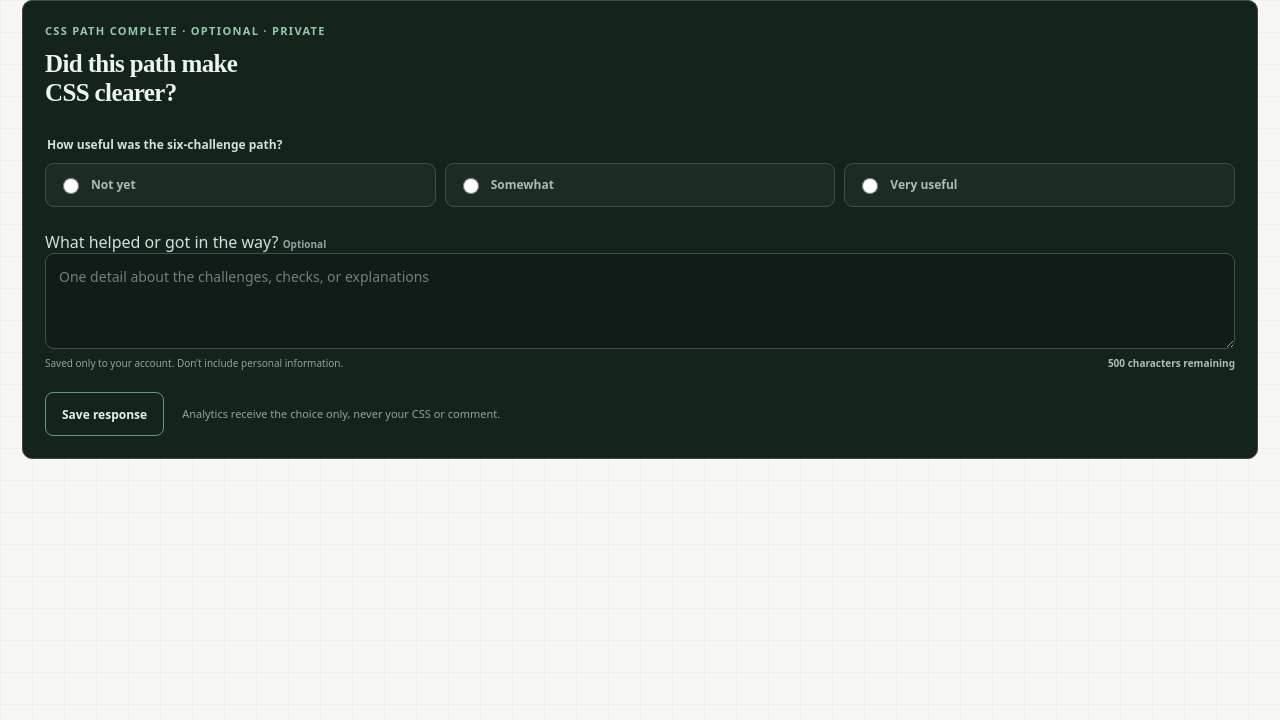
CssPathFeedback › keeps newer feedback edits intact when an older save finishes
Click the radio button labelled "Somewhat". click: (471, 186)
box: [463,178,479,194]
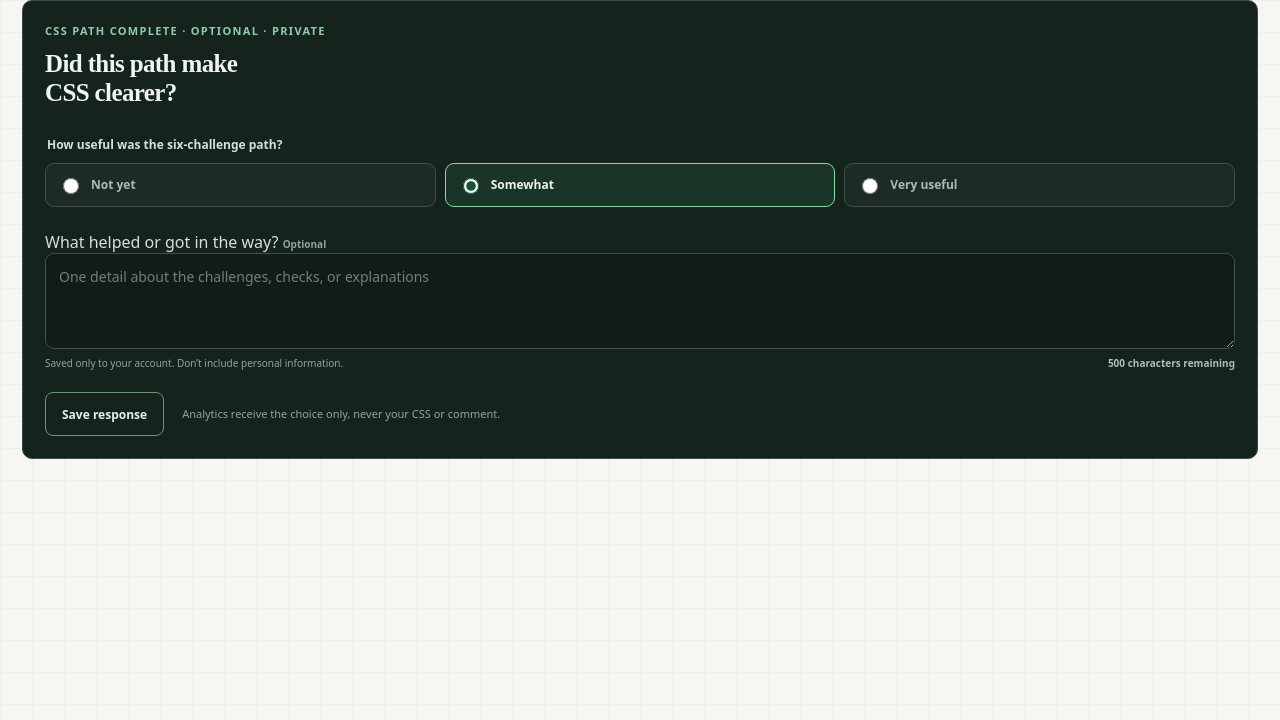
Type "The selector checks helped." into the text box. click: (640, 300)
box: [45,252,1235,348]
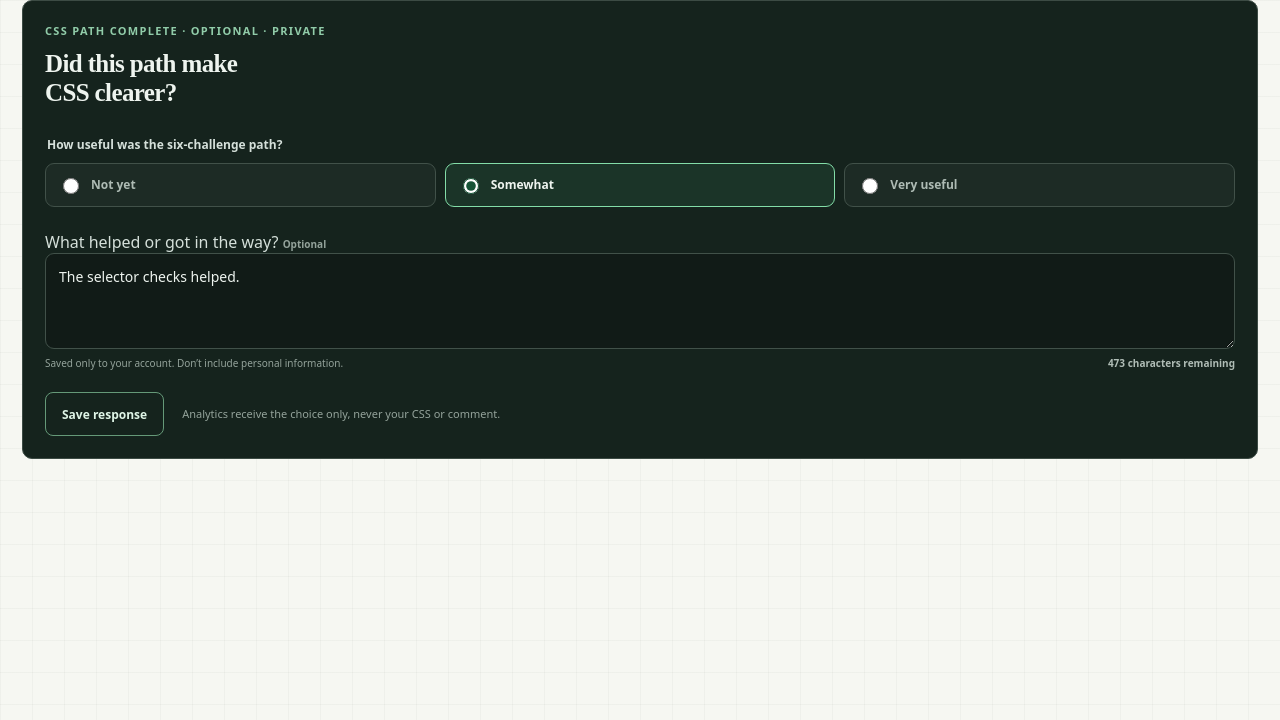
Click the button "Save response". click: (105, 414)
box: [45,392,164,436]
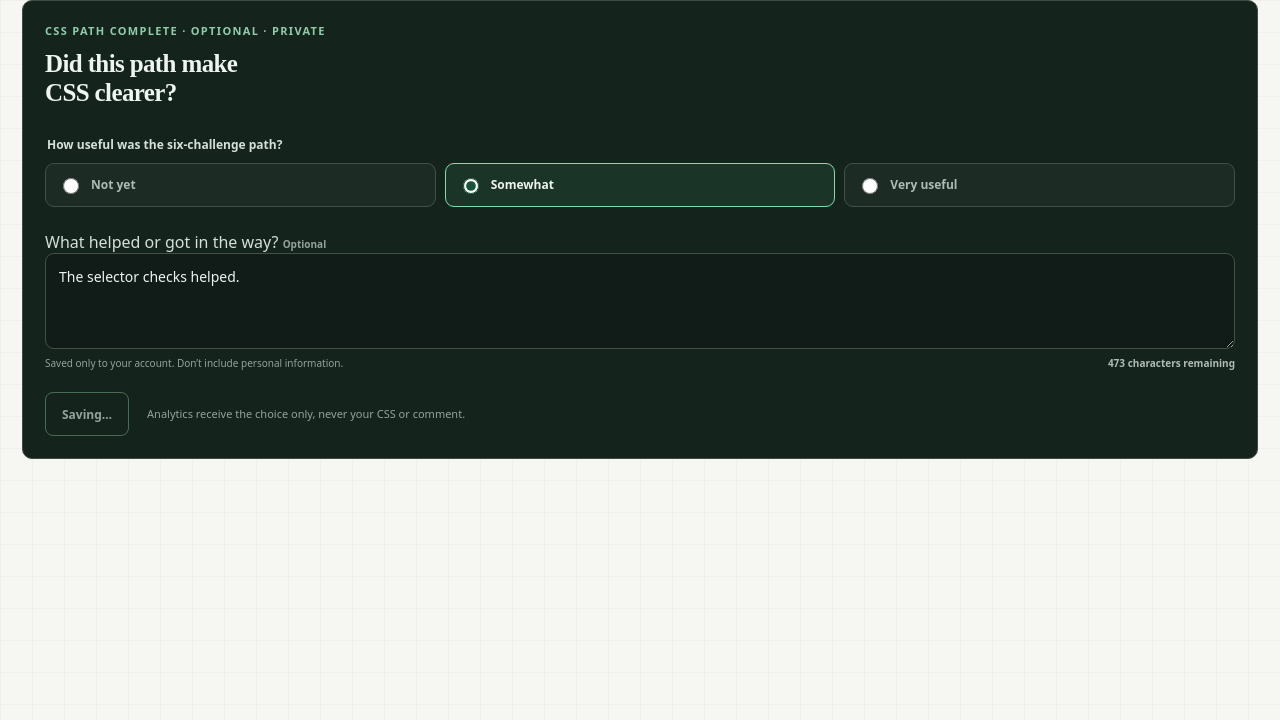
Click the radio button labelled "Very useful". click: (870, 186)
box: [862,178,878,194]
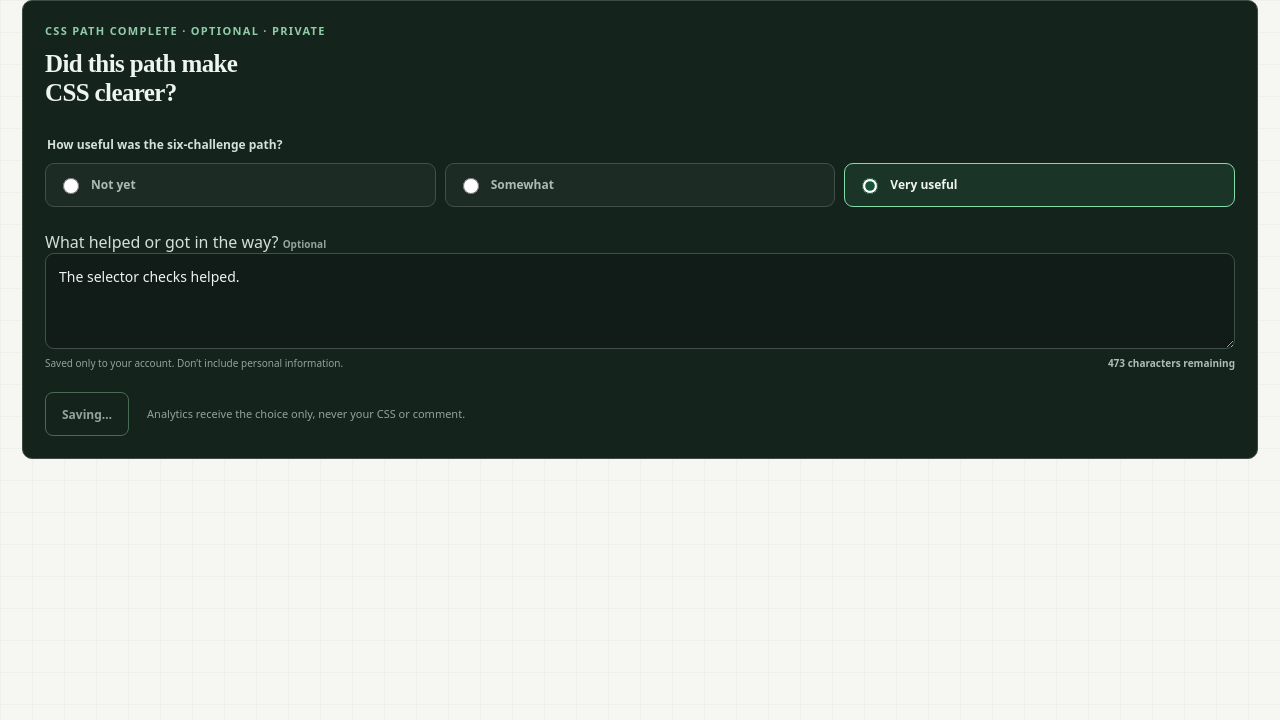
Replace the text in the text box with "The recovery prompts helped even more.". click: (640, 300)
box: [45,252,1235,348]
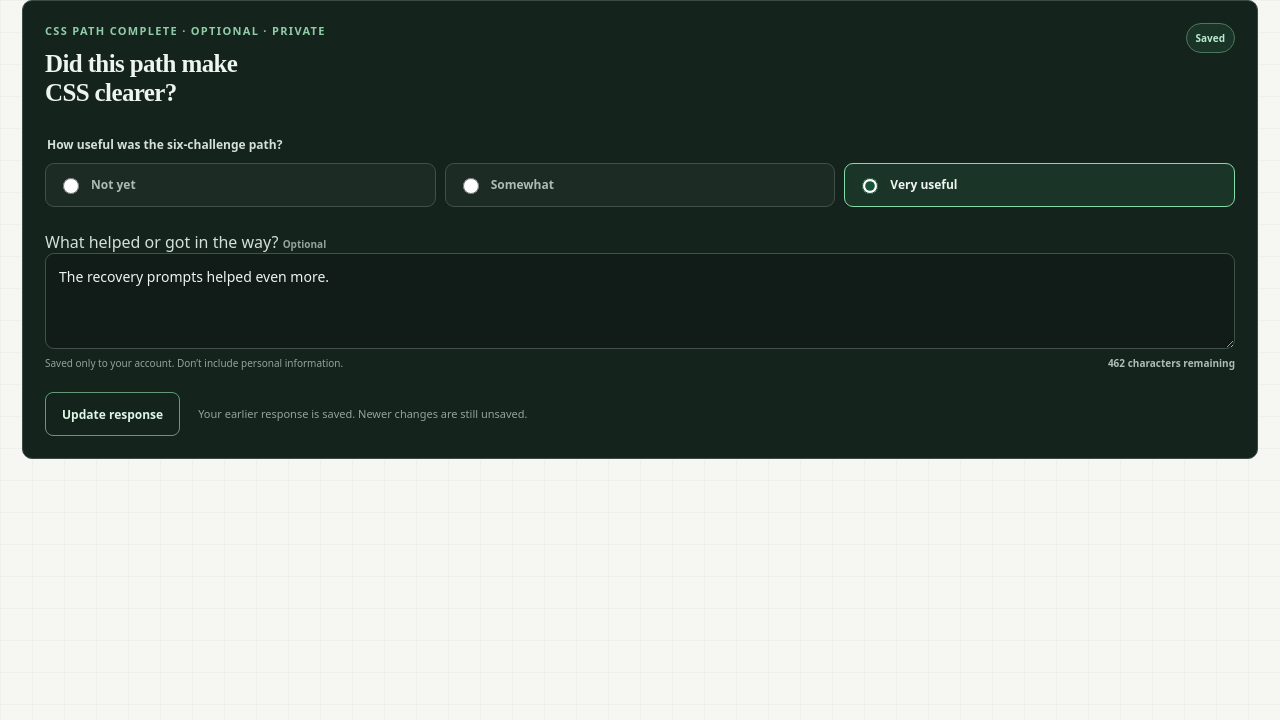
Check: the radio button labelled "Very useful" is checked, box [862,178,878,194]
Check: the text "Your earlier response is saved. Newer changes are still unsaved." is shown, box [198,406,528,421]
Check: the button "Update response" is enabled, box [45,392,180,436]
